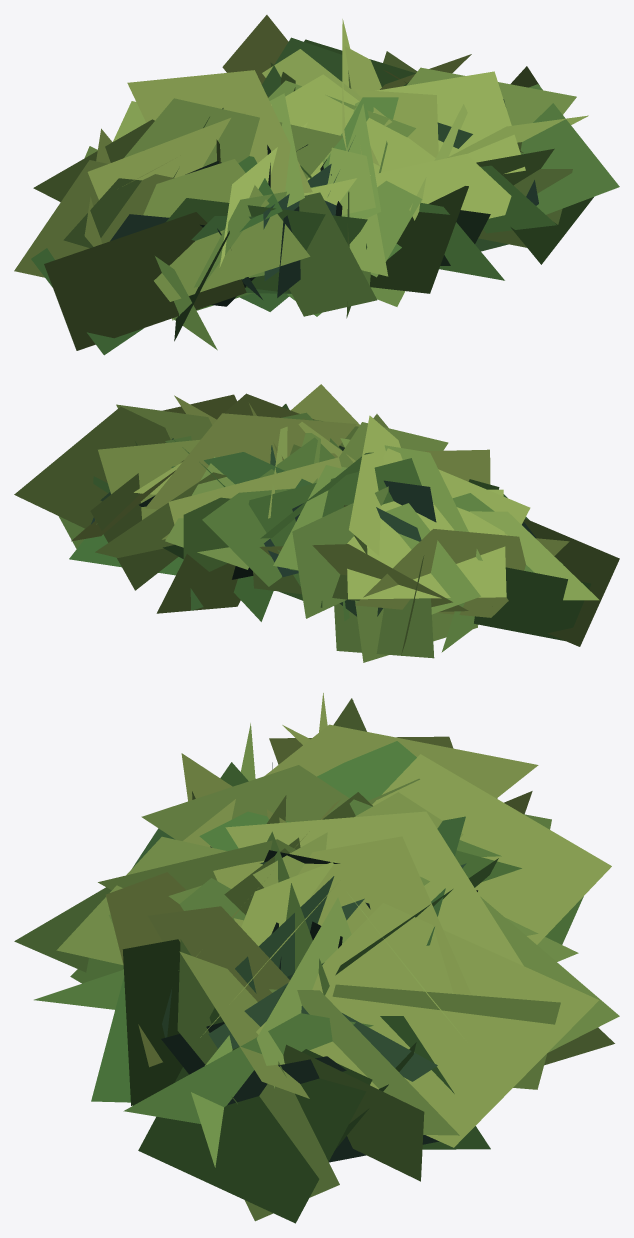
File: BushWide.fbx
3 views of the same model, one above another, from view 1: azimuth 30°, elevation 25°; view 2: azimuth 150°, elevation 25°; view 3: azimuth 270°, elevation 25° (orthographic). The views are drawn at different scales.
Parts seen in each view (by area): view 1: BushWide; view 2: BushWide; view 3: BushWide.
Boxes of the visible parts, box(x1,y1,x2,y2) form: BushWide: box(14, 15, 619, 355); BushWide: box(14, 384, 619, 662); BushWide: box(14, 693, 619, 1223).
Bounding box in the file's own units: 2.68 × 1.03 × 1.74.
